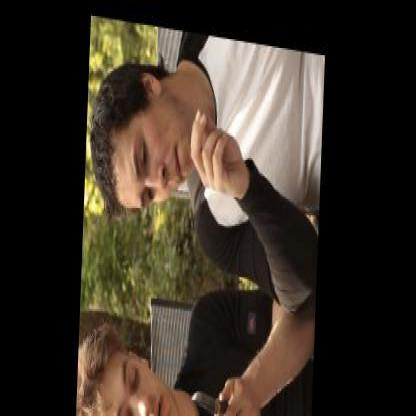knife: (186, 363, 256, 414)
